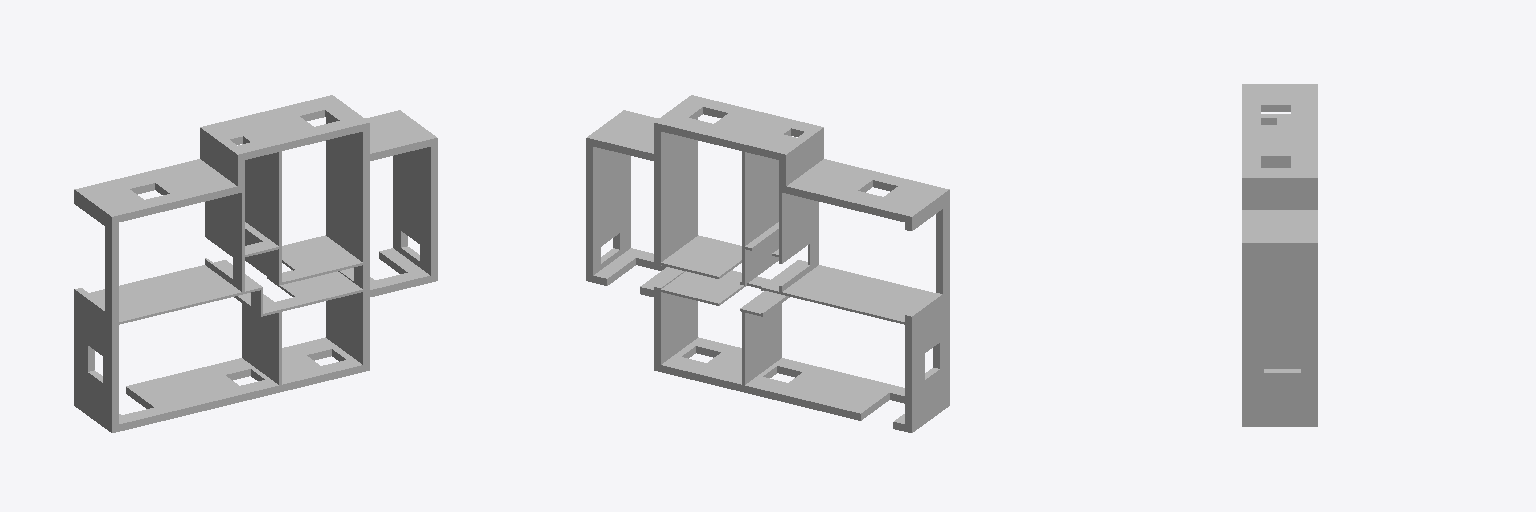
The model's file is master_without_floor.obj.
3 renders of one model, left to right at view 1: azimuth 30°, elevation 25°; view 2: azimuth 150°, elevation 25°; view 3: azimuth 270°, elevation 25°, orthographic.
Bounding box in the file's own units: 28 × 20.4 × 5.6.